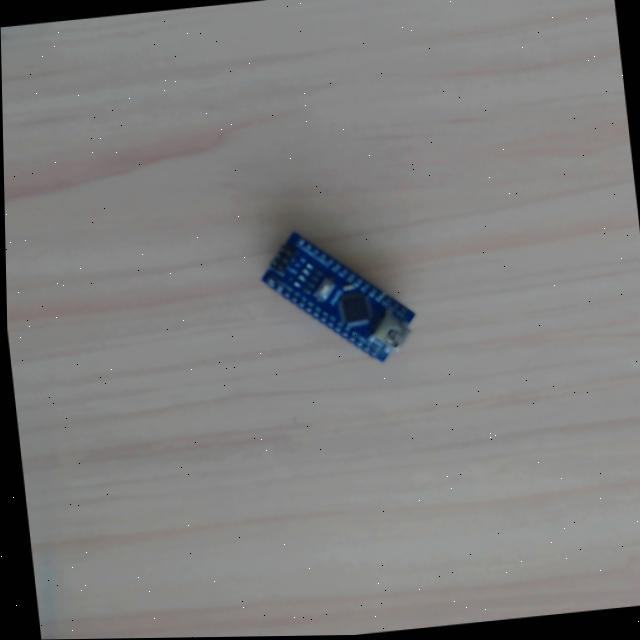Arduino-Nano: (258, 230, 420, 366)
